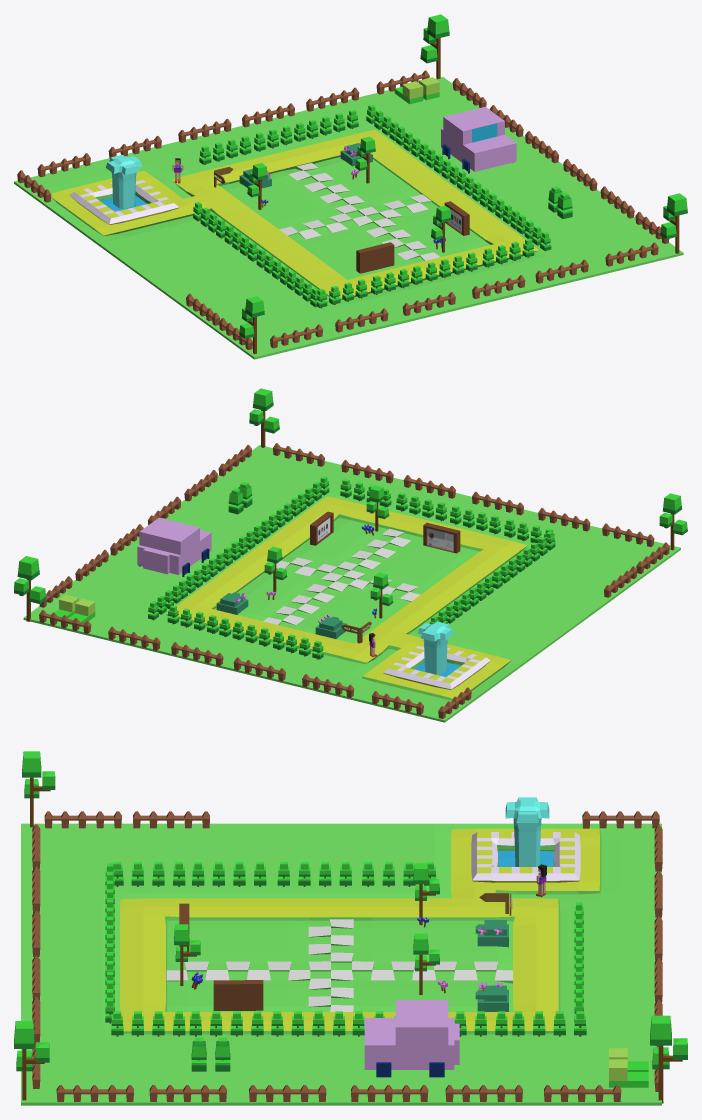
The model's file is Tia.glb.
3 views of the same model, one above another, from view 1: azimuth 30°, elevation 25°; view 2: azimuth 150°, elevation 25°; view 3: azimuth 270°, elevation 25° (orthographic). The views are drawn at different scales.
Parts seen in each view (by area): view 1: Level, Project, Project2; view 2: Level, Project, Project2; view 3: Level, Project2.
Part boxes in pixels (left/top/right/bottom): Level: left=14, top=14, right=687, bottom=359; Project: left=356, top=242, right=394, bottom=273; Project2: left=444, top=201, right=469, bottom=235; Level: left=14, top=388, right=687, bottom=722; Project: left=423, top=522, right=460, bottom=553; Project2: left=310, top=511, right=333, bottom=545; Level: left=14, top=751, right=687, bottom=1105; Project2: left=213, top=980, right=263, bottom=1010.
Size of the model in its own units: 59.55 by 8.15 by 59.31.
30 materials, 2 textured.
